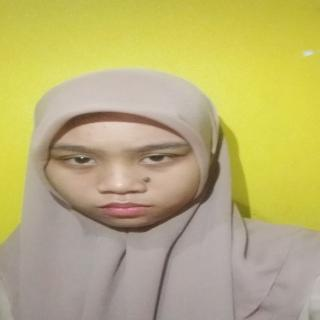Takut: (39, 110, 219, 235)
